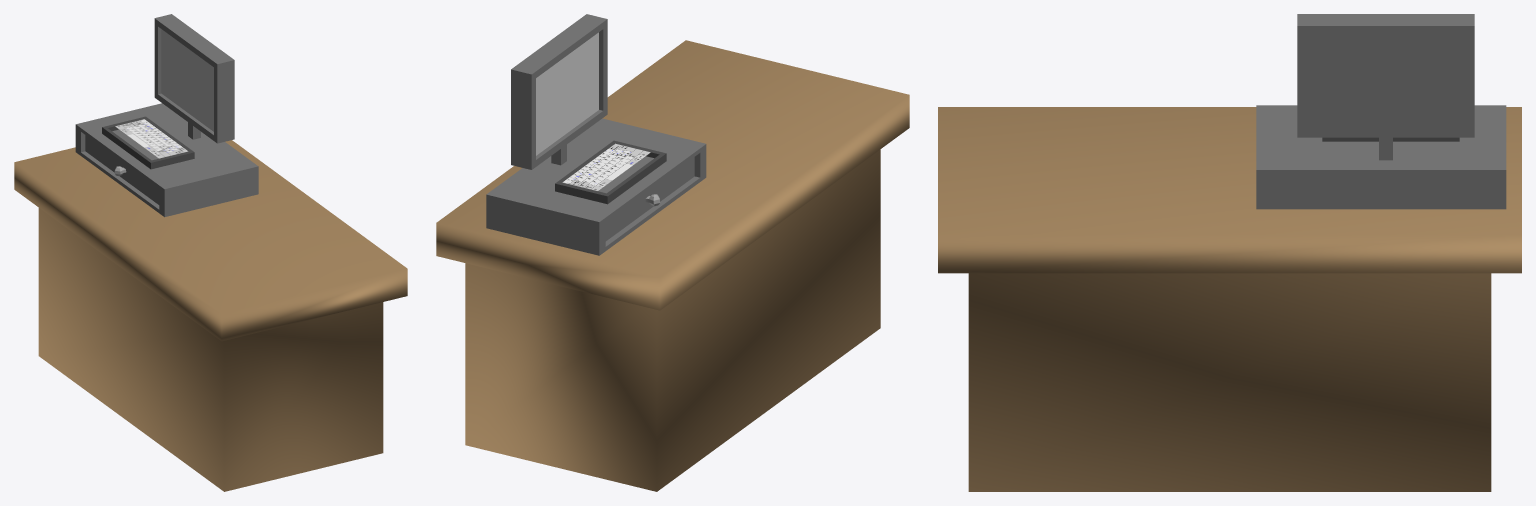
File: Counter.fbx
The picture shows the model from 3 angles, left to right: view 1: azimuth 30°, elevation 25°; view 2: azimuth 150°, elevation 25°; view 3: azimuth 270°, elevation 25°; orthographic projection. The views are drawn at different scales.
Parts seen in each view (by area): view 1: Counter_Combined; view 2: Counter_Combined; view 3: Counter_Combined.
Boxes of the visible parts, x1,y1,x2,y2 form: Counter_Combined: [14, 14, 407, 491]; Counter_Combined: [436, 14, 909, 491]; Counter_Combined: [938, 14, 1521, 491].
Size of the model in its own units: 116 by 188 by 224.
